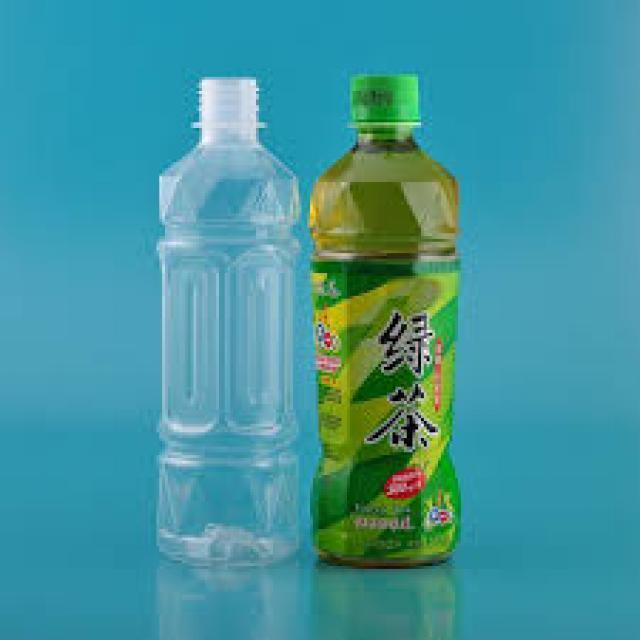Plastic: (311, 73, 464, 570), (158, 76, 305, 566)
